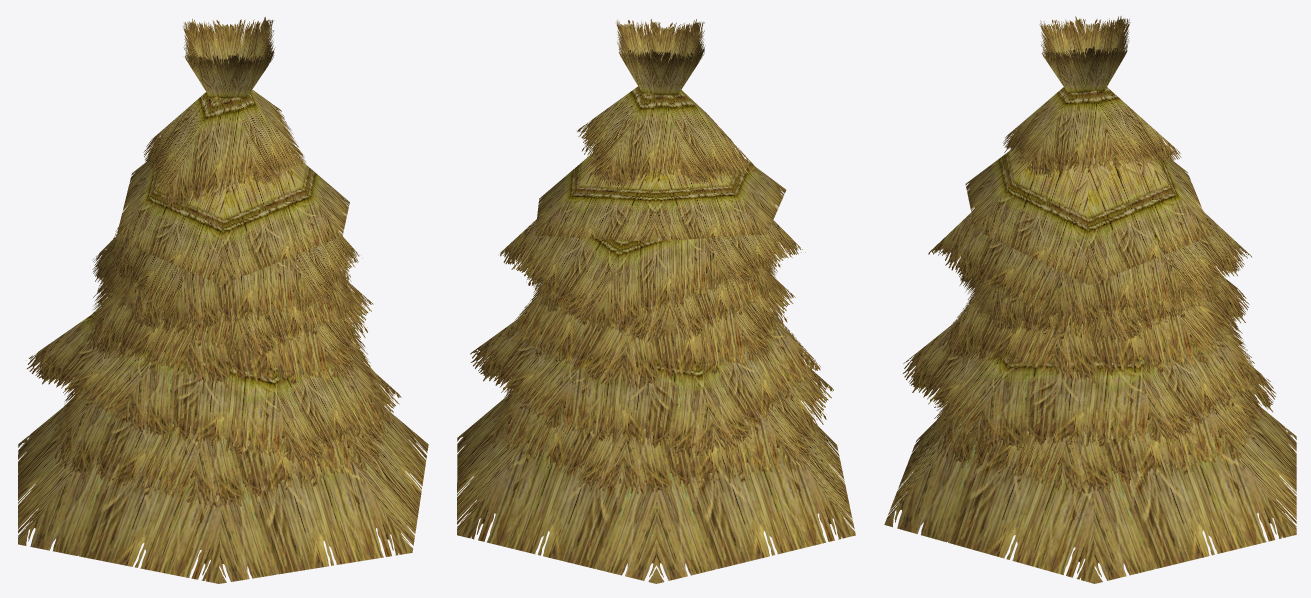
Rendered from caodui_tyc_20.FBX.
The picture shows the model from 3 angles, left to right: view 1: azimuth 30°, elevation 25°; view 2: azimuth 150°, elevation 25°; view 3: azimuth 270°, elevation 25°; orthographic projection. The views are drawn at different scales.
Parts seen in each view (by area): view 1: caodui_tyc_20_01; view 2: caodui_tyc_20_01; view 3: caodui_tyc_20_01.
Part boxes in pixels (box(x1,y1,x2,y2)): caodui_tyc_20_01: box(18, 17, 428, 583); caodui_tyc_20_01: box(457, 19, 855, 583); caodui_tyc_20_01: box(884, 16, 1296, 583).
Size of what is drawn, in the model's own units: 622 by 682 by 551.
